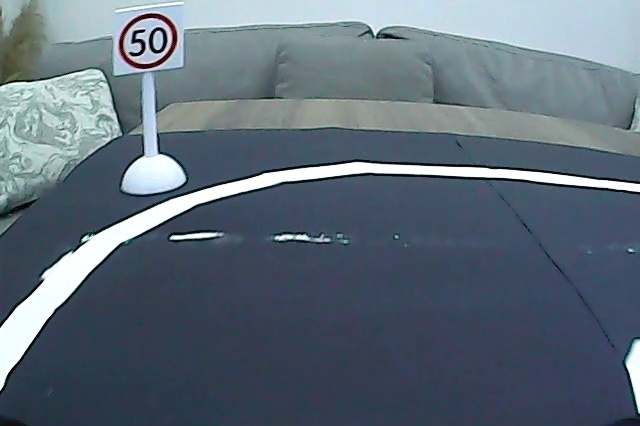speed limit 50: (118, 9, 180, 72)
